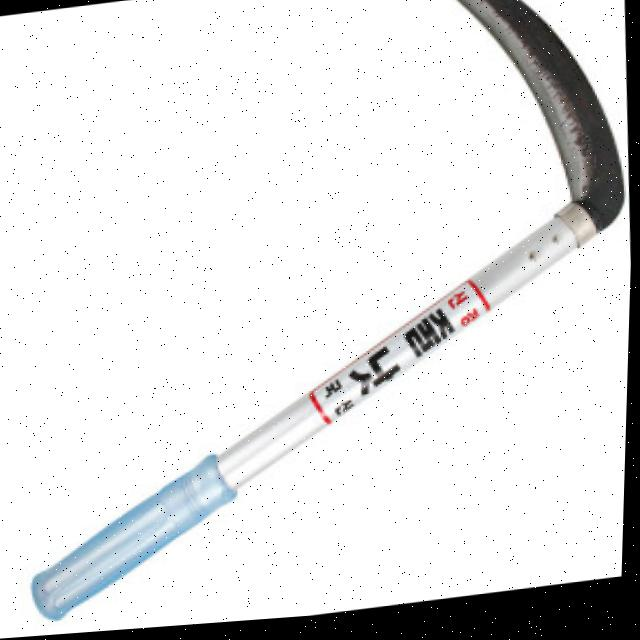sickle: (0, 0, 640, 624)
